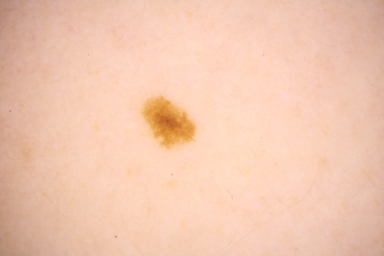melanoma: (143, 93, 198, 148)
